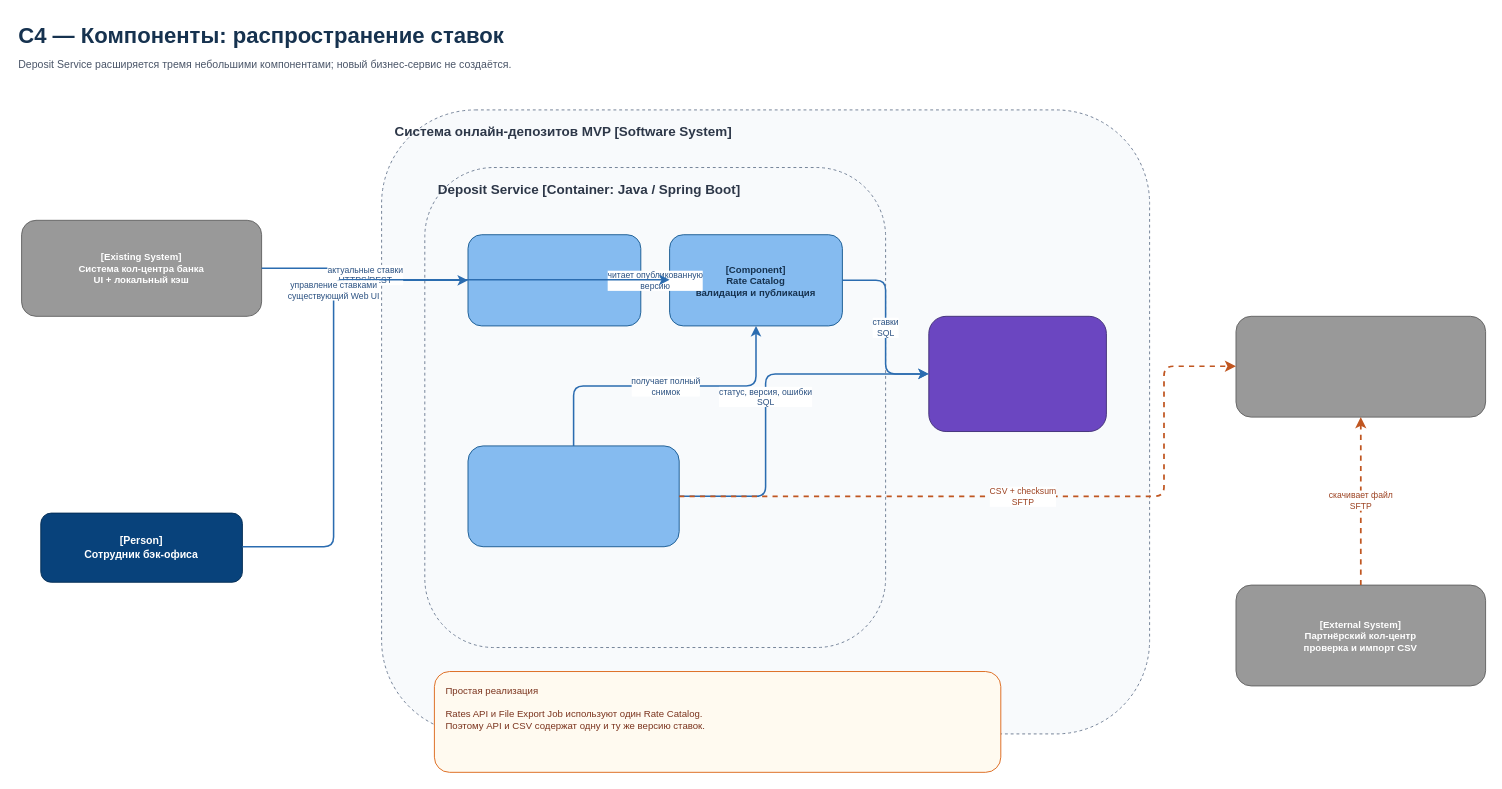
Some shapes in this 1502 by 789 pixel diagram are drawn without their labels. Each missing label, with the centre of its shape:
[Component] Rate File Export Job CSV, расписание, retry: the point at 573,496
[Component] Rates API read-only REST: the point at 554,280
[Container: DB] Deposit DB MS SQL ставки и журнал выгрузок: the point at 1017,373
[Infrastructure] SFTP-сервер банка ключи, аудит, хранение: the point at 1360,366
